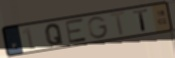1: (22, 26, 35, 50)
E: (64, 17, 89, 44)
G: (86, 16, 110, 40)
Q: (44, 23, 64, 47)
T: (108, 10, 129, 38), (132, 8, 150, 33)
